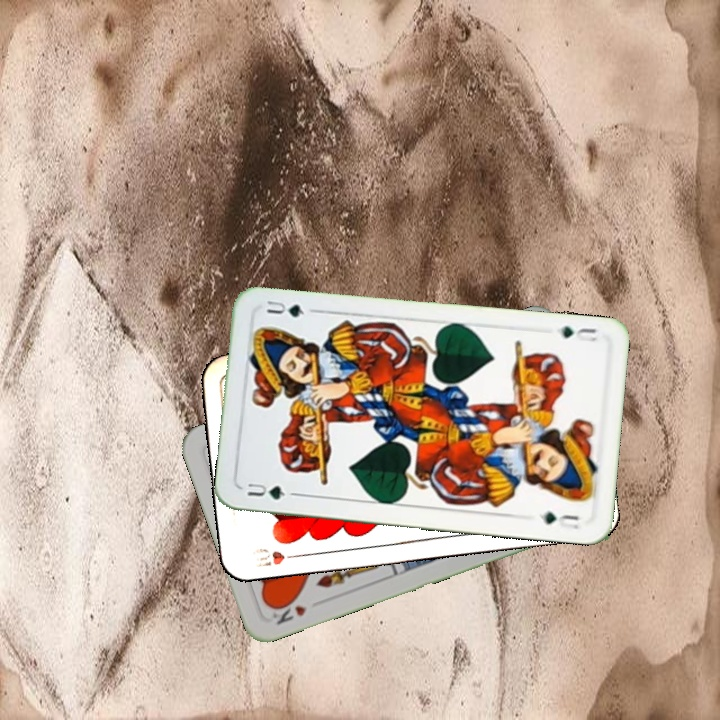GU: (243, 479, 289, 502), (557, 321, 600, 345)
H10: (251, 544, 305, 570)
HK: (267, 594, 310, 628)
